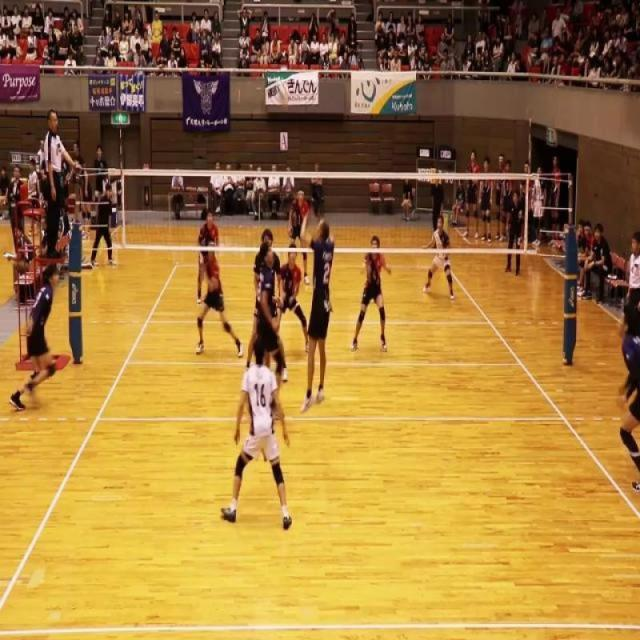volleyball: (278, 82, 290, 101)
